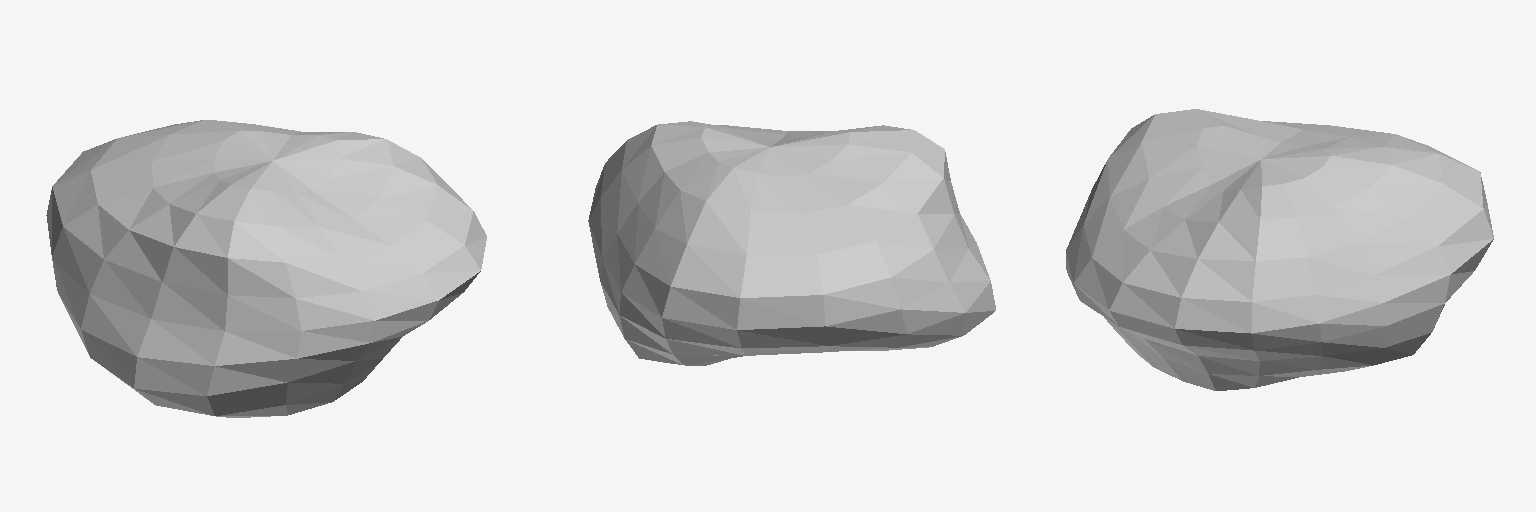
The model's file is rock9.Obj.
3 views of the same model, side by side, from view 1: azimuth 30°, elevation 25°; view 2: azimuth 150°, elevation 25°; view 3: azimuth 270°, elevation 25° (orthographic).
Parts seen in each view (by area): view 1: default; view 2: default; view 3: default.
Part boxes in pixels (bbox=[...]): default: bbox=[46, 120, 486, 417]; default: bbox=[588, 121, 995, 365]; default: bbox=[1066, 109, 1493, 390].
Bounding box in the file's own units: 1.01 × 0.5515 × 1.01.